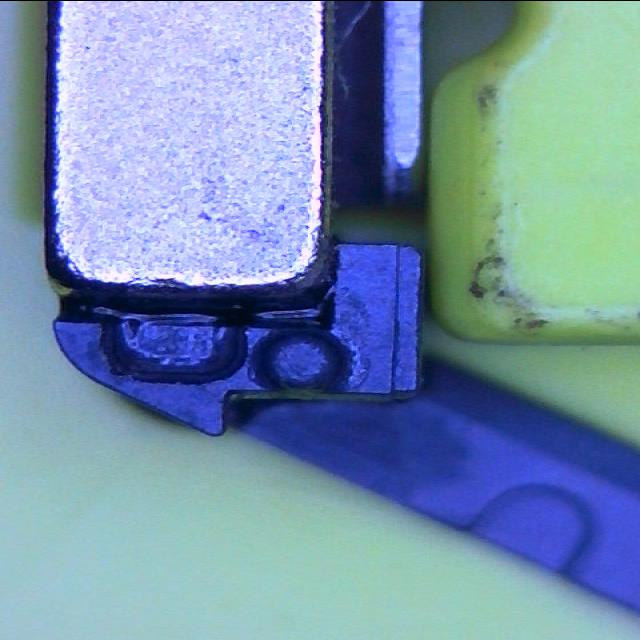lacking: (97, 313, 248, 385)
